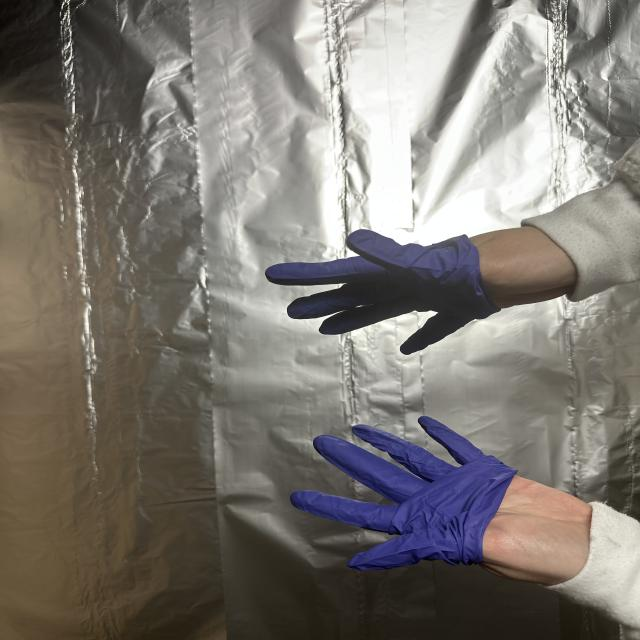glove_partial: (285, 415, 604, 591), (258, 223, 585, 356)
